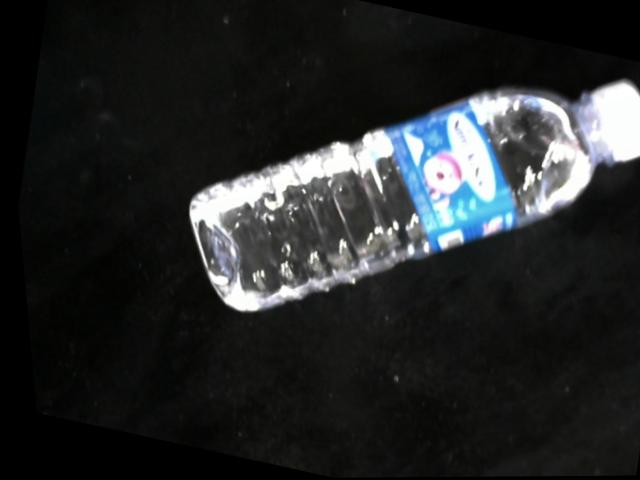bottle: (183, 79, 640, 316)
